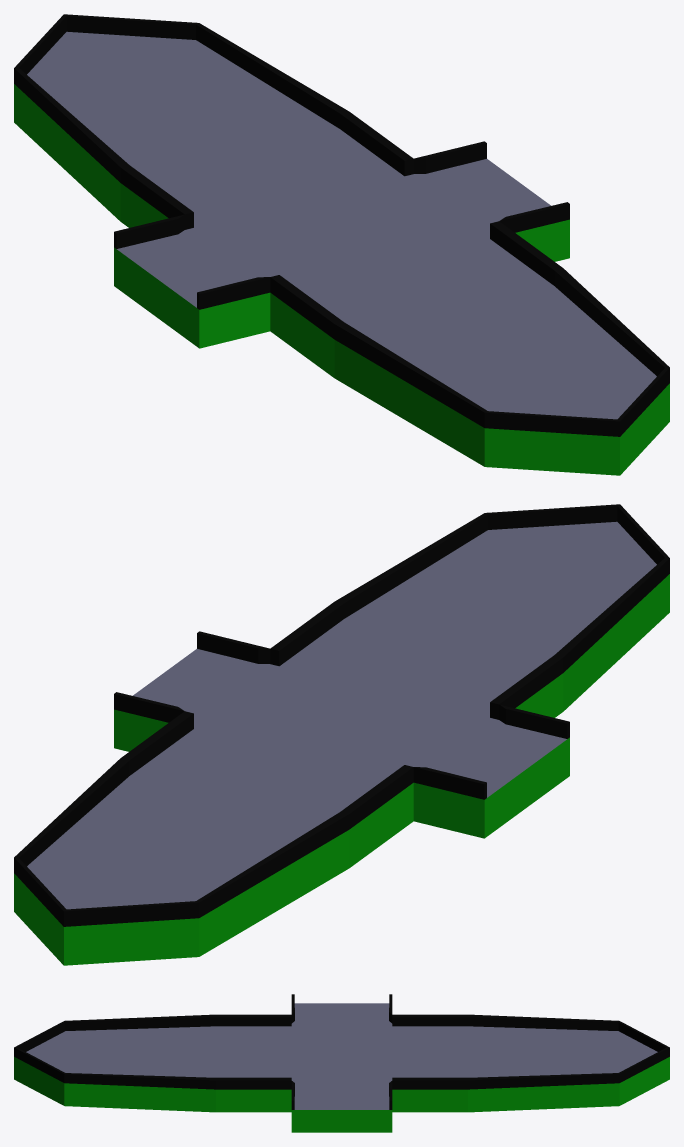
Rendered from smallWide.fbx.
3 views of the same model, one above another, from view 1: azimuth 30°, elevation 25°; view 2: azimuth 150°, elevation 25°; view 3: azimuth 270°, elevation 25° (orthographic). The views are drawn at different scales.
Parts seen in each view (by area): view 1: Cube; view 2: Cube; view 3: Cube.
Part boxes in pixels (left/top/right/bottom): Cube: left=14, top=14, right=669, bottom=475; Cube: left=14, top=504, right=669, bottom=965; Cube: left=14, top=994, right=669, bottom=1132.
Size of the model in its own units: 5000 by 700 by 13000.
